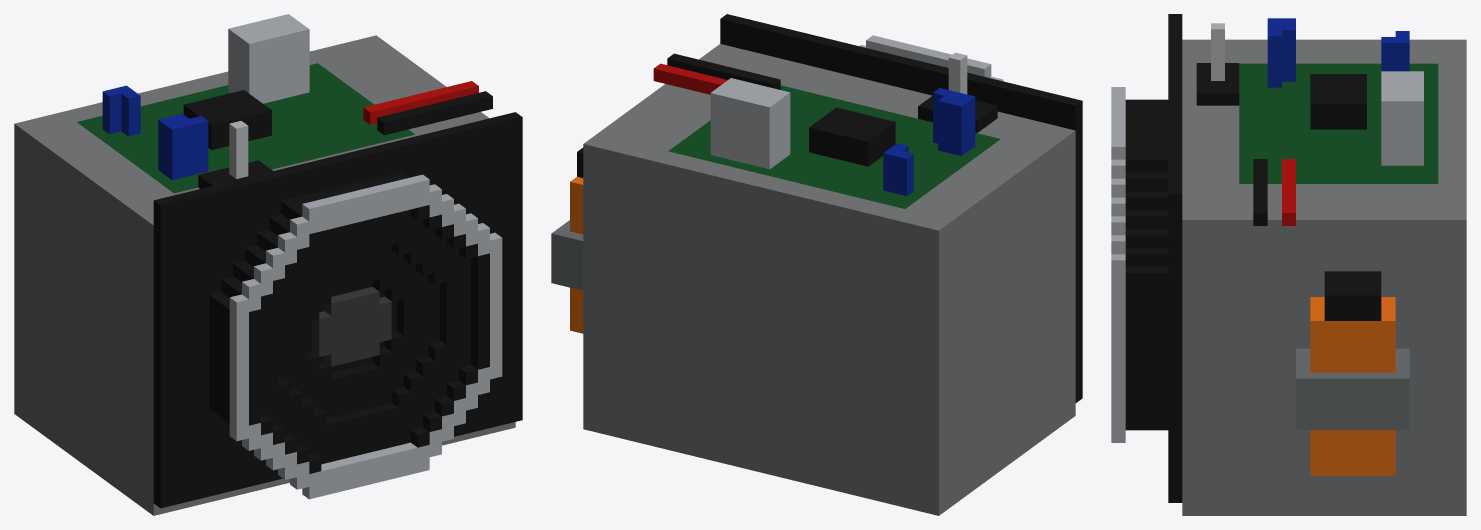
The model's file is noise_emitter.glb.
3 renders of one model, left to right at view 1: azimuth 30°, elevation 25°; view 2: azimuth 150°, elevation 25°; view 3: azimuth 270°, elevation 25°, orthographic. The views are drawn at different scales.
Visible parts, largest first — view 1: noise_emitter:compound; view 2: noise_emitter:compound; view 3: noise_emitter:compound.
Part boxes in pixels (box(x1,y1,x2,y2)): noise_emitter:compound: box(14, 14, 522, 515); noise_emitter:compound: box(551, 14, 1082, 515); noise_emitter:compound: box(1111, 14, 1466, 515).
Size of the model in its own units: 0.14 by 0.112 by 0.1.
